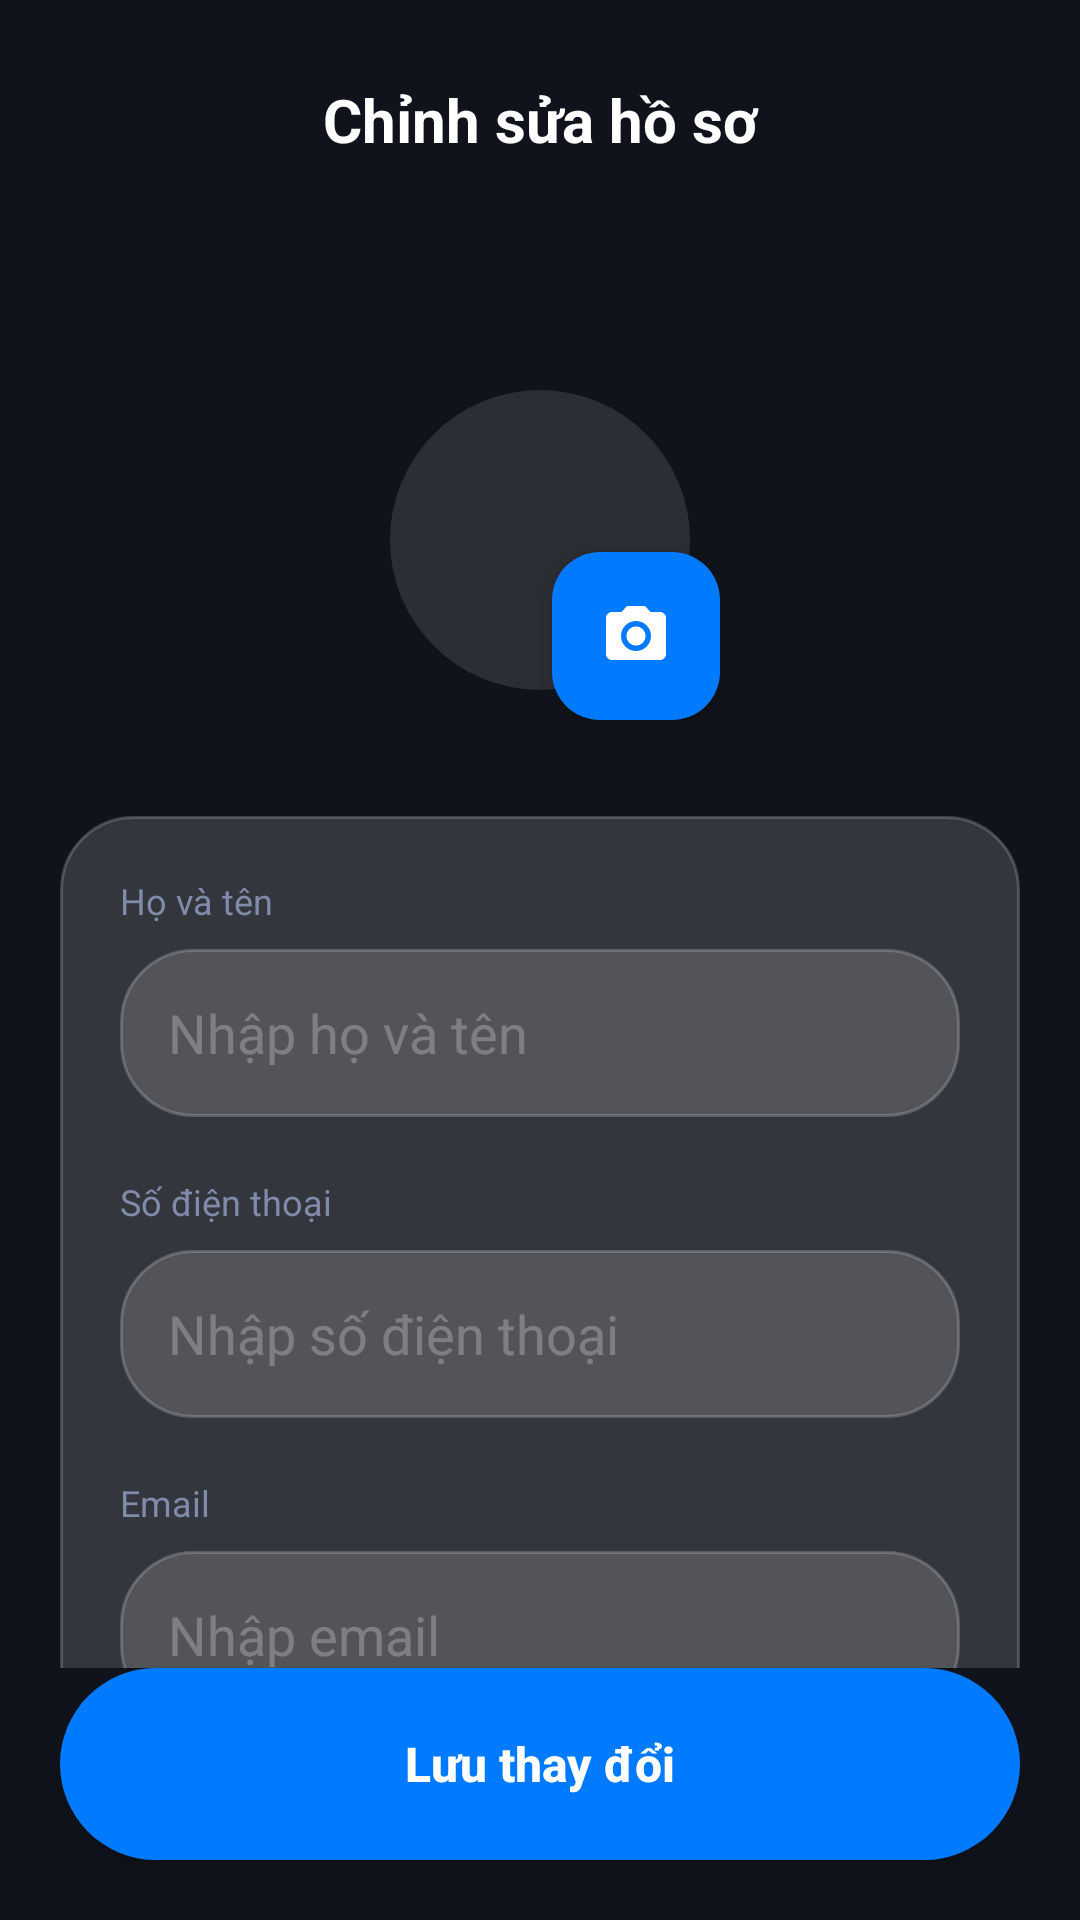

Icon bounding boxes for this 1080w x 1920h phone screenshot, format box=[x1, y1, x2, y2]:
camera: box=[552, 552, 720, 720]
